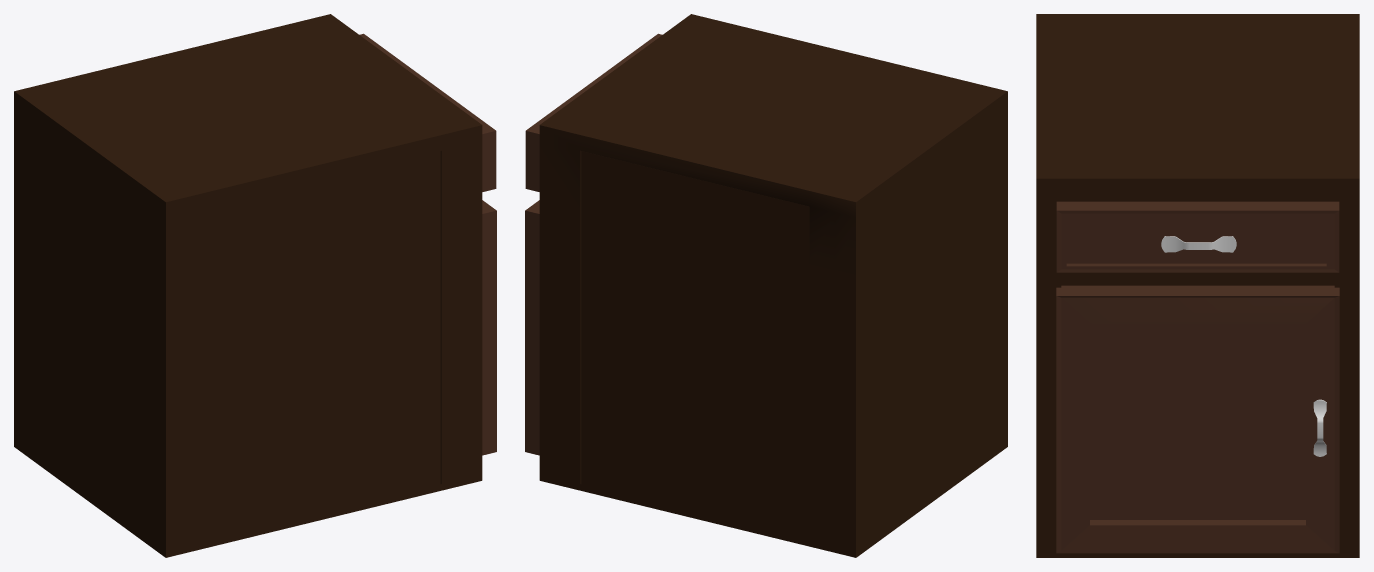
Rendered from KitchenBaseCabinetSingle.fbx.
3 views of the same model, side by side, from view 1: azimuth 30°, elevation 25°; view 2: azimuth 150°, elevation 25°; view 3: azimuth 270°, elevation 25° (orthographic). The views are drawn at different scales.
Visible parts, largest first — view 1: singlecabinet; view 2: singlecabinet; view 3: singlecabinet.
Part boxes in pixels (box(x1,y1,x2,y2)): singlecabinet: box(14, 14, 496, 557); singlecabinet: box(525, 14, 1007, 557); singlecabinet: box(1036, 14, 1359, 557).
Bounding box in the file's own units: 80.91 × 79.23 × 61.25.
